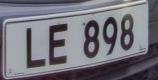8: (80, 16, 102, 60), (118, 10, 137, 55)
9: (100, 13, 120, 57)
E: (46, 20, 73, 67)
L: (20, 20, 47, 74)
